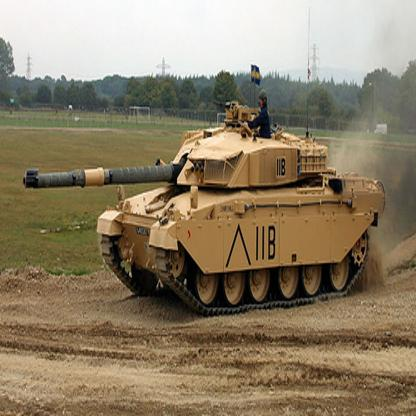Tank: (16, 103, 391, 321)
